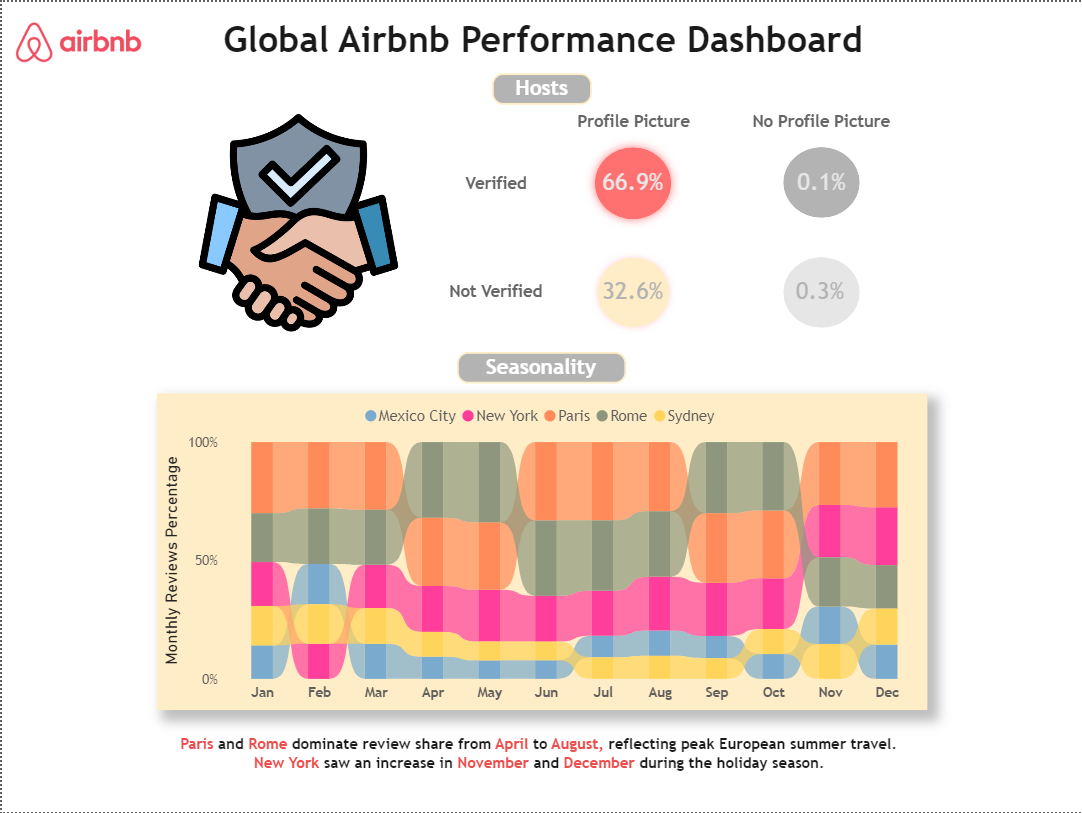

What the dashboard file says about the page in this screenshot:
{"tool":"powerbi","page":{"name":"Reviews","canvas":[960,720],"ordinal":2},"visuals":[{"type":"textbox","box":[178.6,9,603.8,54.3],"z":0},{"type":"textbox","box":[435.5,63.6,89.1,28.2],"z":1000},{"type":"image","box":[4,12,127,47],"z":2000},{"type":"textbox","box":[153.3,644.4,652.2,56.7],"z":3000},{"type":"textbox","box":[404.5,310.9,150,28.2],"z":5000},{"type":"group","id":"g1","title":"Group 1","box":[160.9,91.8,638.2,208.2],"z":6000},{"type":"image","box":[160.9,91.8,204,208],"z":7000,"group":"g1"},{"type":"ribbonChart","fields":{"Y":["Reviews.% of Monthly Reviews"],"Series":["Listings.city"],"Category":["Reviews.Review Month"]},"box":[138.2,348.2,684.5,281.8],"z":7000},{"type":"textbox","box":[380.9,145.8,116,30],"z":10000,"group":"g1"},{"type":"textbox","box":[358.9,242.8,160,30],"z":11000,"group":"g1"},{"type":"textbox","box":[502.9,91.8,116,30],"z":12000,"group":"g1"},{"type":"shape","box":[518.9,120.8,84,80],"z":13000,"group":"g1"},{"type":"card","fields":{"Values":["Listings.Verified Profile %"]},"box":[518.9,140.8,84,39],"z":14000,"group":"g1"},{"type":"textbox","box":[655.9,91.8,143,30],"z":15000,"group":"g1"},{"type":"shape","box":[693.9,225.8,68,63],"z":16000,"group":"g1"},{"type":"card","fields":{"Values":["Listings.Not Verified Not Profile %"]},"box":[696.9,237.8,61,39],"z":16500,"group":"g1"},{"type":"shape","box":[522.9,220.8,76,74],"z":17000,"group":"g1"},{"type":"card","fields":{"Values":["Listings.Not Verified Profile %"]},"box":[518.9,237.8,84,39],"z":17500,"group":"g1"},{"type":"shape","box":[693.9,128.8,68,63],"z":18000,"group":"g1"},{"type":"card","fields":{"Values":["Listings.Verified Not Profile %"]},"box":[685.9,140.8,84,39],"z":19000,"group":"g1"}]}

Visuals, with their boxes in screenshot pixels (x1, y1, x2, y2), scaled from the page's 960x720 canvas onto the 1082x813 screenshot:
textbox: 201/10/882/71
textbox: 491/72/591/104
image: 5/14/148/67
textbox: 173/728/908/792
textbox: 456/351/625/383
"Group 1" group: 181/104/901/339
image: 181/104/411/339
ribbonChart - Reviews.% of Monthly Reviews x Listings.city: 156/393/927/711
textbox: 429/165/560/199
textbox: 405/274/585/308
textbox: 567/104/698/138
shape: 585/136/680/227
card - Listings.Verified Profile %: 585/159/680/203
textbox: 739/104/900/138
shape: 782/255/859/326
card - Listings.Not Verified Not Profile %: 785/269/854/313
shape: 589/249/675/333
card - Listings.Not Verified Profile %: 585/269/680/313
shape: 782/145/859/217
card - Listings.Verified Not Profile %: 773/159/868/203
